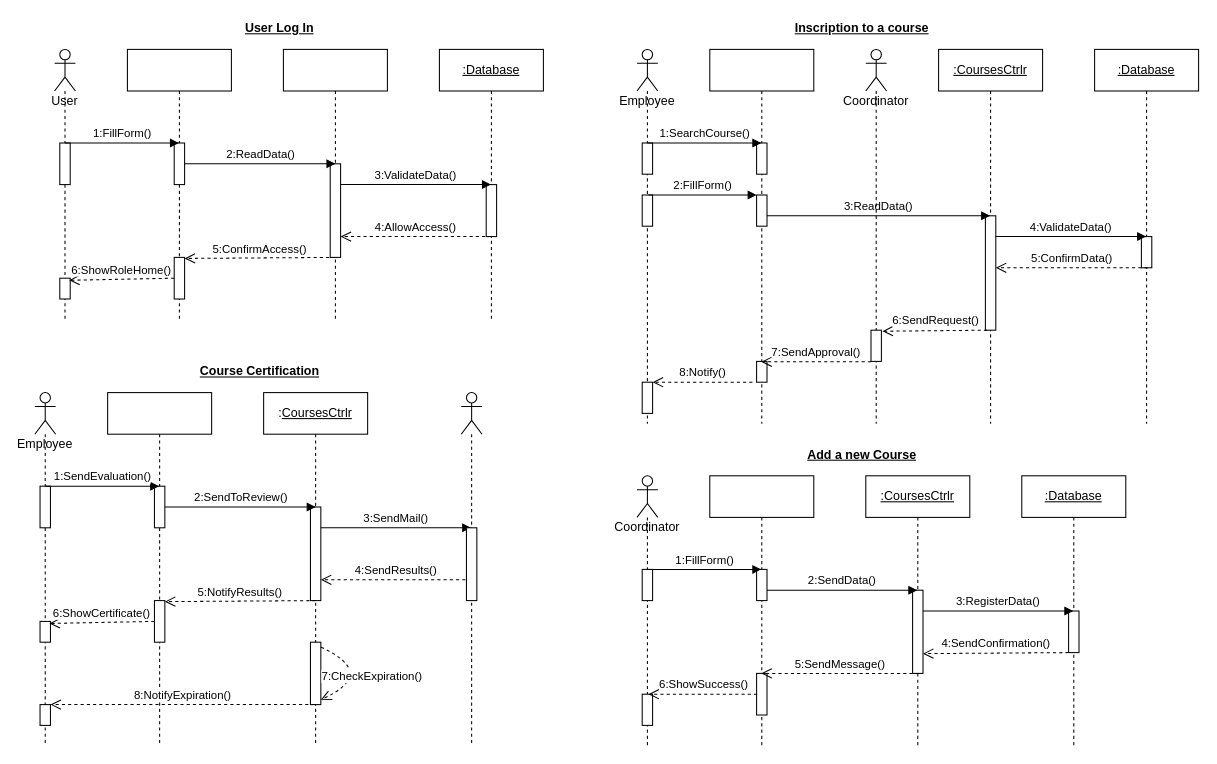
Some shapes in this 1217 by 764 pixel diagram are drawn without their labels. Each missing label, with the centre of its shape:
":AddCourse" belongs at point 761,610.
":CourseCatalog" belongs at point 761,236.
":CourseLesson" belongs at point 159,569.
":LogIn" belongs at point 178,184.
":UsersCtrlr" belongs at point 334,184.
"Coordinador" belongs at point 471,569.
